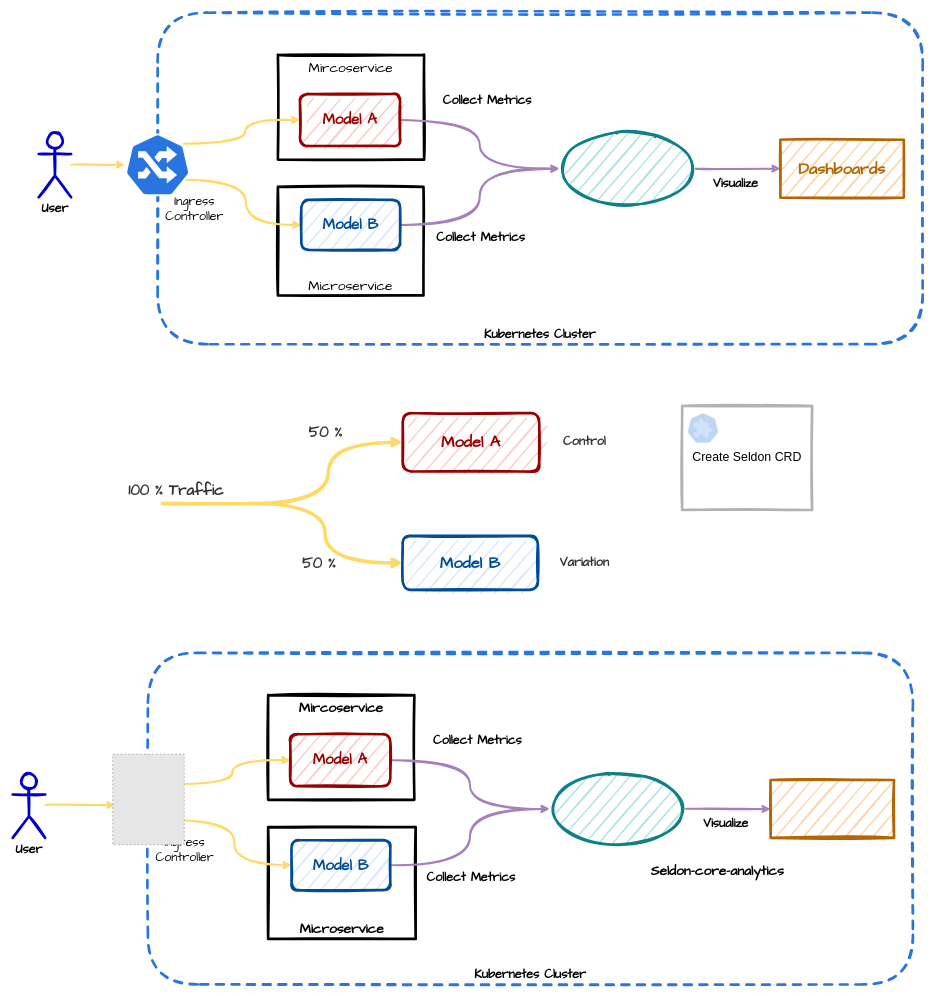
Some shapes in this 935 by 996 pixel diagram are drawn without their labels. Grey dashed boxes stand in for pictures. Here are the shapes that lost their labels. From the top down, the centre of each, then its label:
At point (627, 168): "Metrics".
At point (617, 809): "Metrics Prometheus".
At point (832, 808): "Dashboards Grafana".
